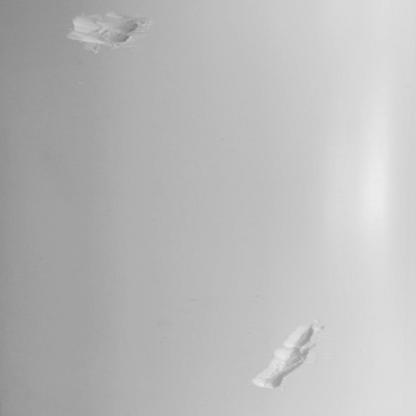sunshang: (253, 322, 321, 389), (69, 12, 145, 53)
